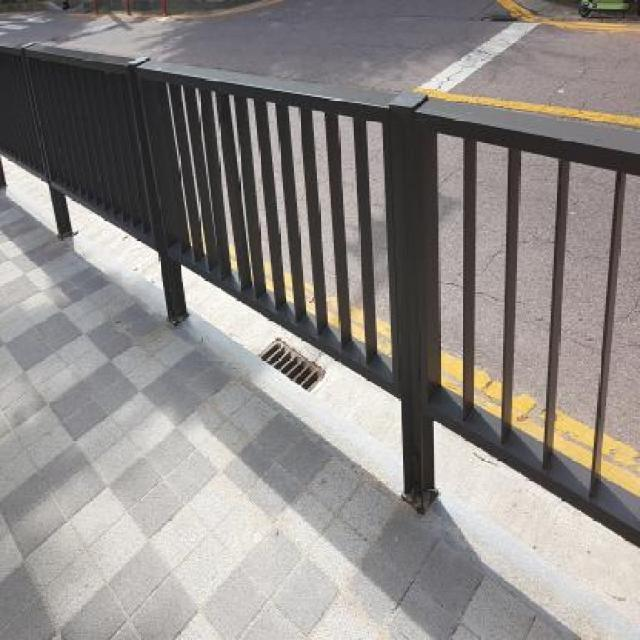fence: (0, 5, 640, 546)
